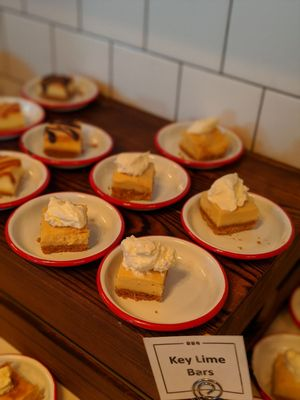sushi: (20, 72, 100, 112), (0, 354, 57, 400), (0, 96, 46, 142)
